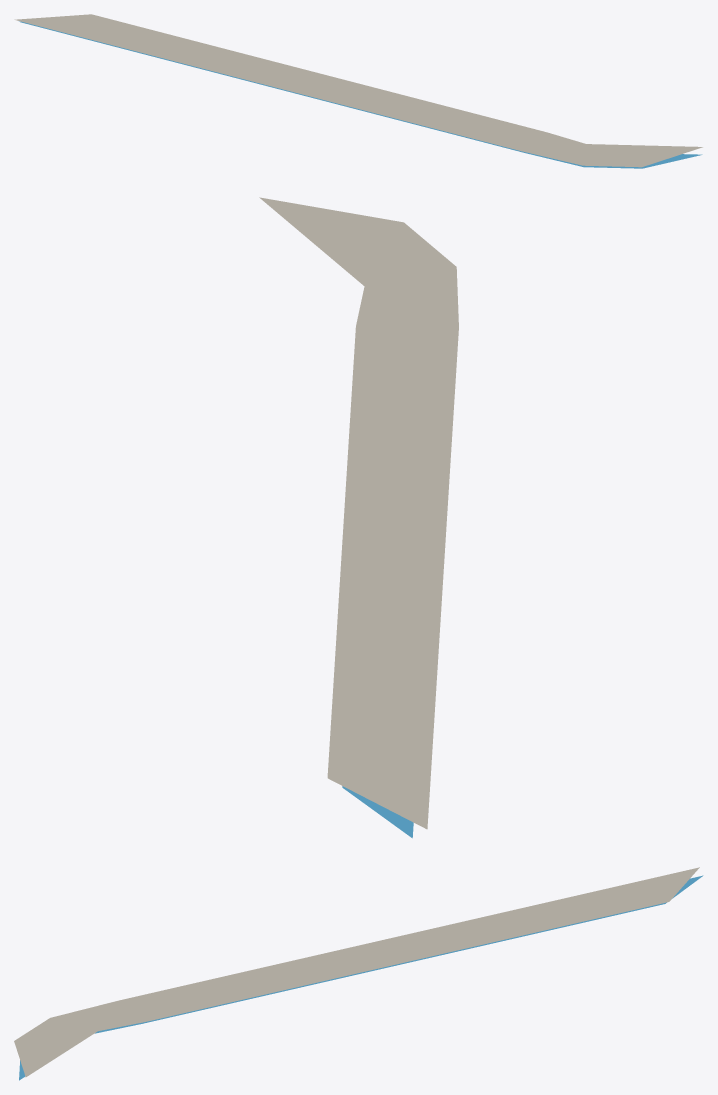
The picture shows the model from 3 angles, top to bottom: view 1: azimuth 30°, elevation 25°; view 2: azimuth 150°, elevation 25°; view 3: azimuth 270°, elevation 25°; orthographic projection. The views are drawn at different scales.
Visible parts, largest first — view 1: estructura_terreno, estructura_agua; view 2: estructura_terreno; view 3: estructura_terreno, estructura_agua.
Boxes of the visible parts, x1,y1,x2,y2 form: estructura_terreno: (14,14,702,167); estructura_agua: (19,21,702,168); estructura_terreno: (259,197,458,829); estructura_terreno: (14,867,699,1077); estructura_agua: (19,875,703,1080).
Bounding box in the file's own units: 36.41 × 0.41 × 50.48.
